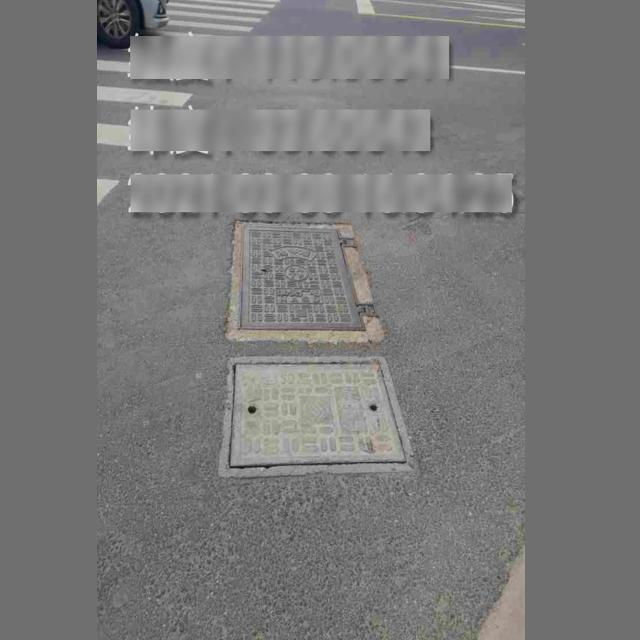good: (218, 356, 416, 472), (238, 219, 380, 334)
